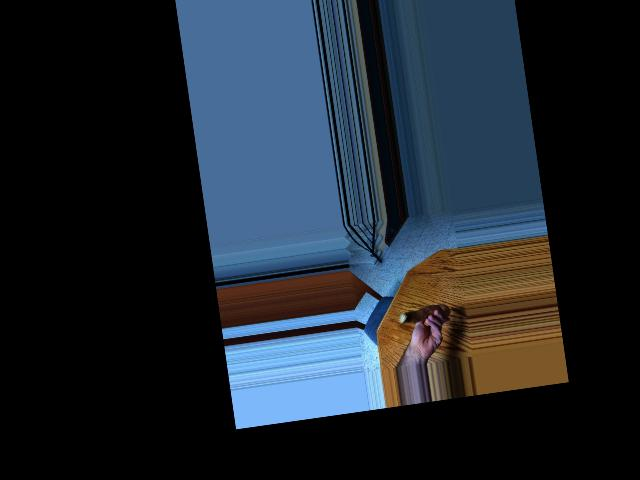sweet_potato: (396, 302, 449, 329)
